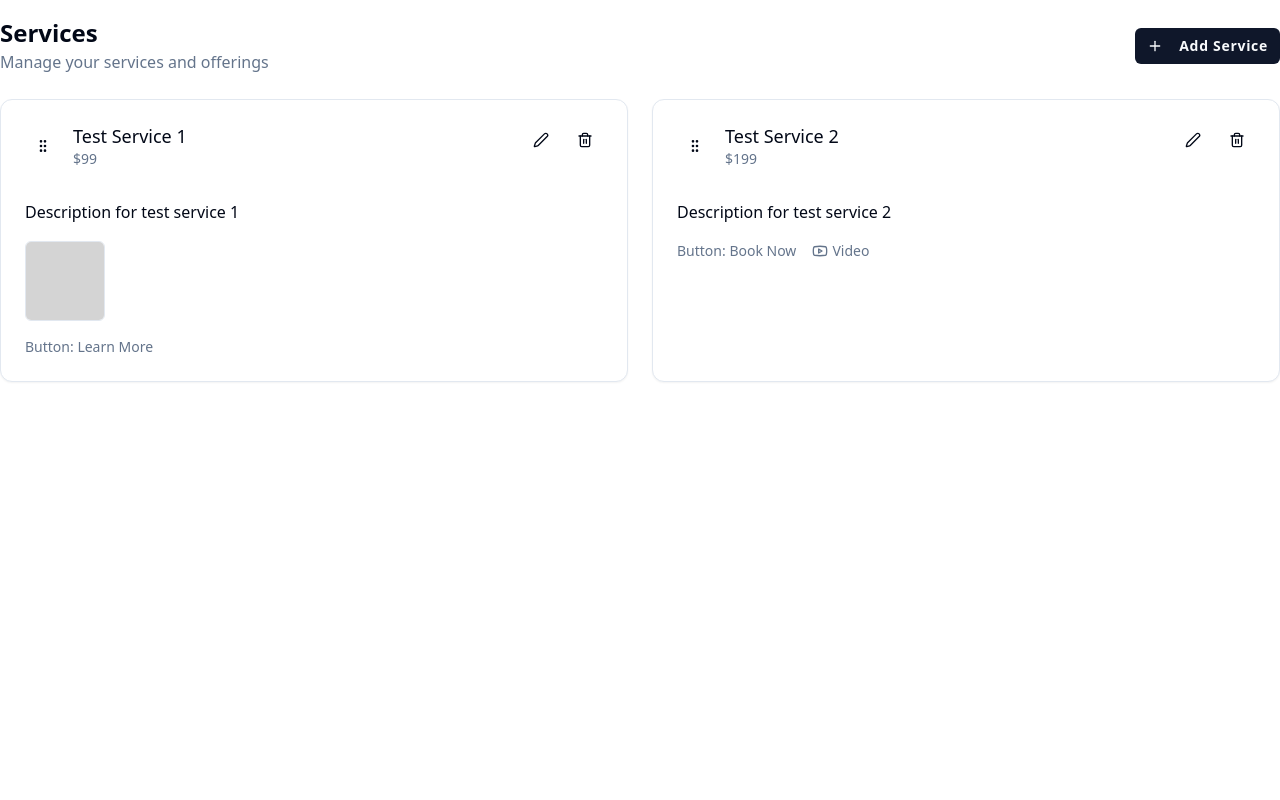
Scenario: Service CRUD Operations › Form State Management › should close dialog after successful operation
Click the button "Add Service". click: (1208,46)
box: [1135,28,1279,64]
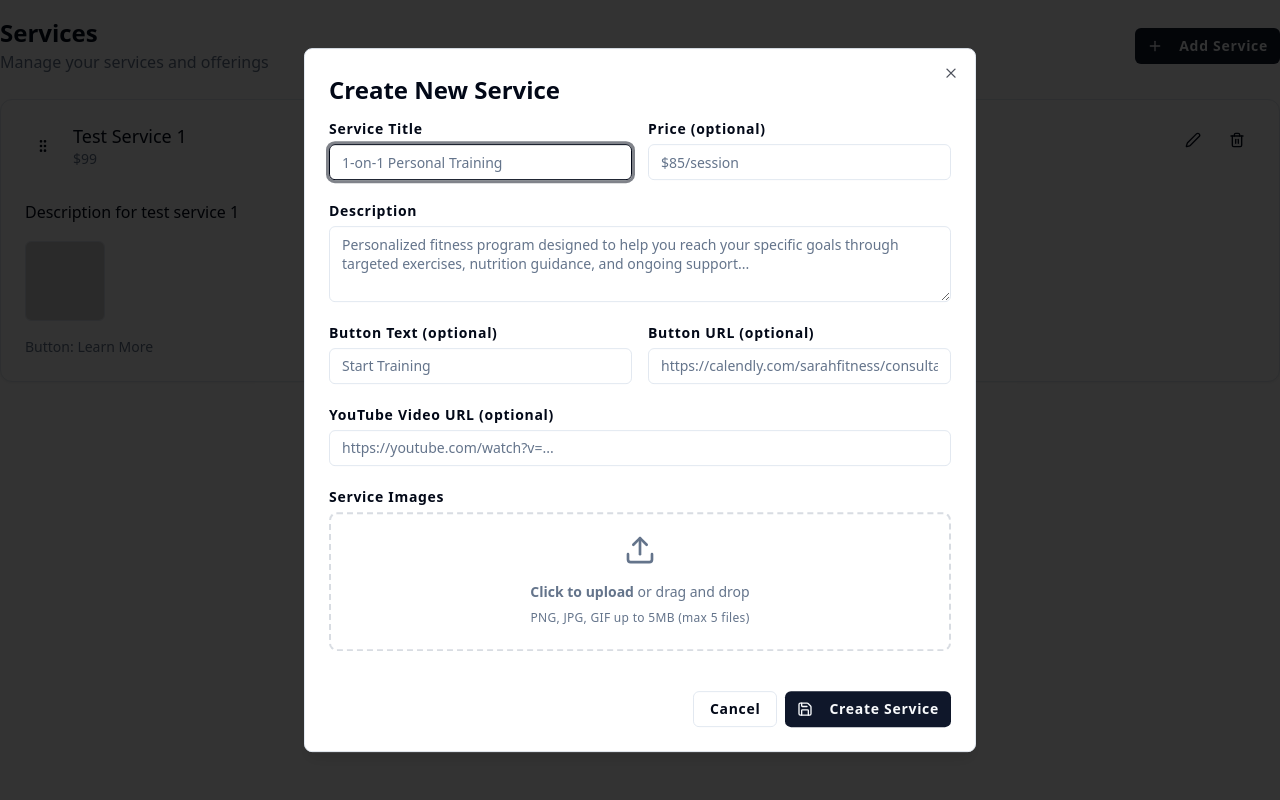
Expected: the heading "Create New Service" is shown, [329,73,560,106]
Submit the form, box [329,122,951,727]
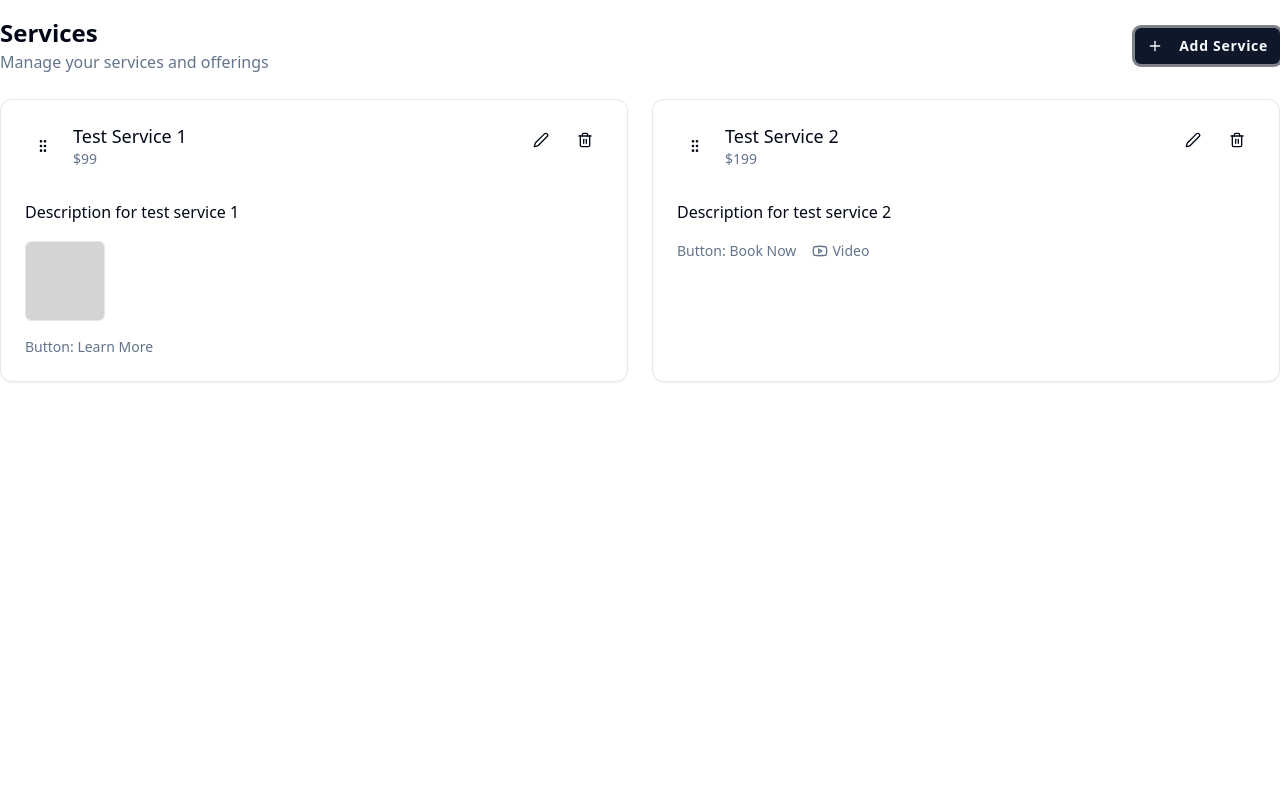
Expected: the heading "Create New Service" is gone
